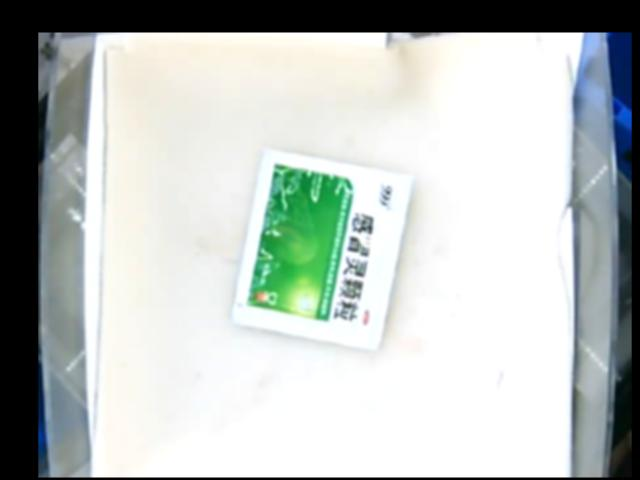Medicine: (236, 149, 415, 349)
